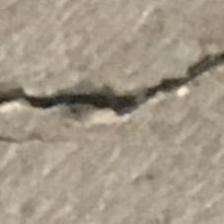Crack: (0, 46, 224, 146)
